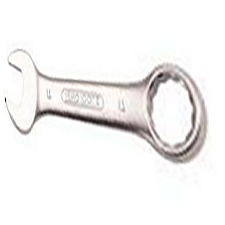Wrench: (5, 44, 221, 170)
